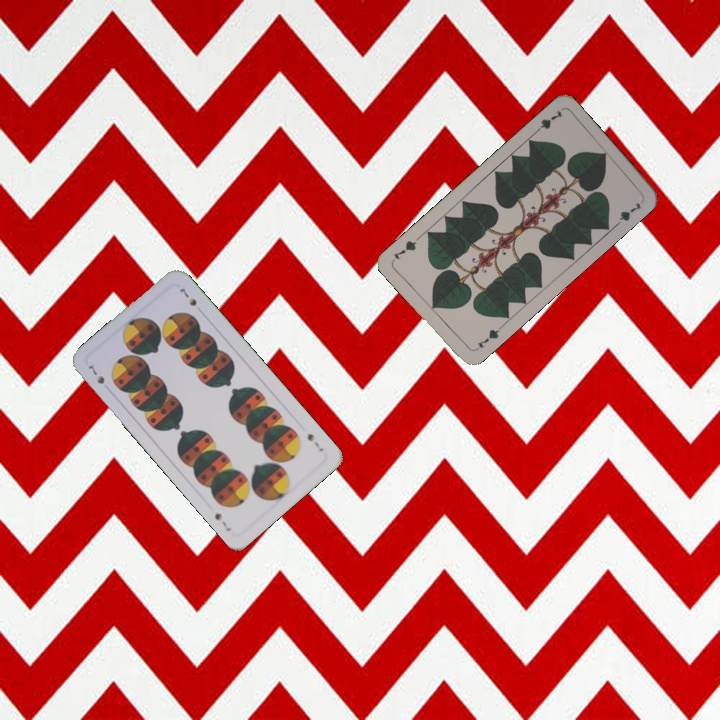G7: (530, 106, 566, 137), (470, 323, 504, 354)
S7: (84, 360, 107, 387), (303, 429, 326, 454)
